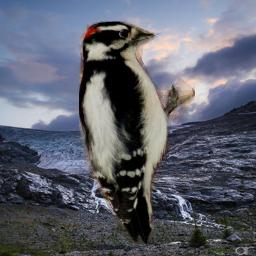Woodpecker: (79, 21, 195, 244)
